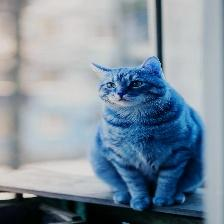kedo: (92, 57, 204, 209)
